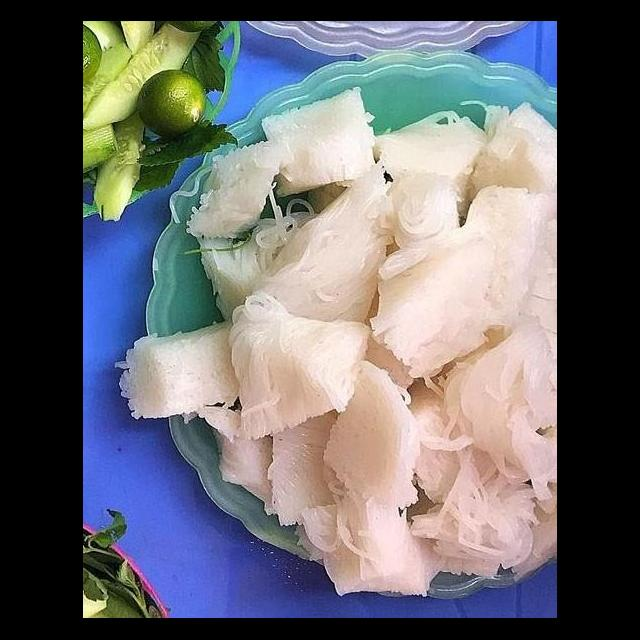bun: (105, 79, 557, 606)
